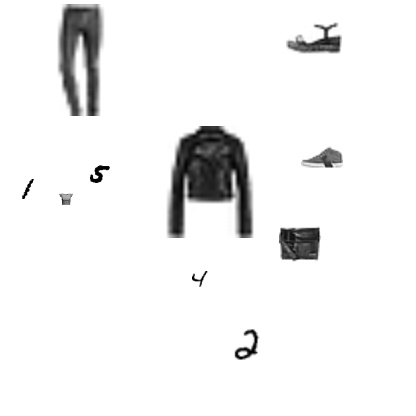1: (13, 175, 41, 203)
2: (226, 325, 268, 367)
4: (188, 267, 210, 289)
5: (84, 159, 112, 187)
Bag: (279, 222, 321, 264)
Coat: (152, 126, 264, 238)
Sandal: (286, 9, 342, 65)
Shirt: (59, 192, 73, 206)
Sneaker: (301, 136, 343, 178)
Trouser: (23, 4, 135, 116)
